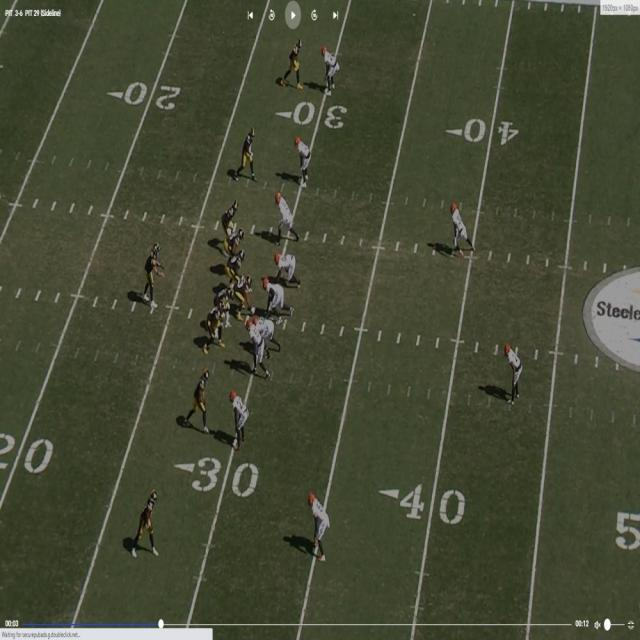center: (232, 273, 254, 312)
db: (230, 392, 248, 446), (451, 206, 469, 250), (296, 136, 311, 186), (322, 46, 337, 90), (510, 348, 521, 401)
lb: (246, 318, 266, 384), (309, 496, 327, 561), (280, 189, 296, 236)
qb: (145, 242, 161, 310)
skill: (135, 495, 157, 555), (198, 369, 212, 432), (241, 130, 257, 174), (286, 41, 302, 83), (224, 198, 238, 230)
